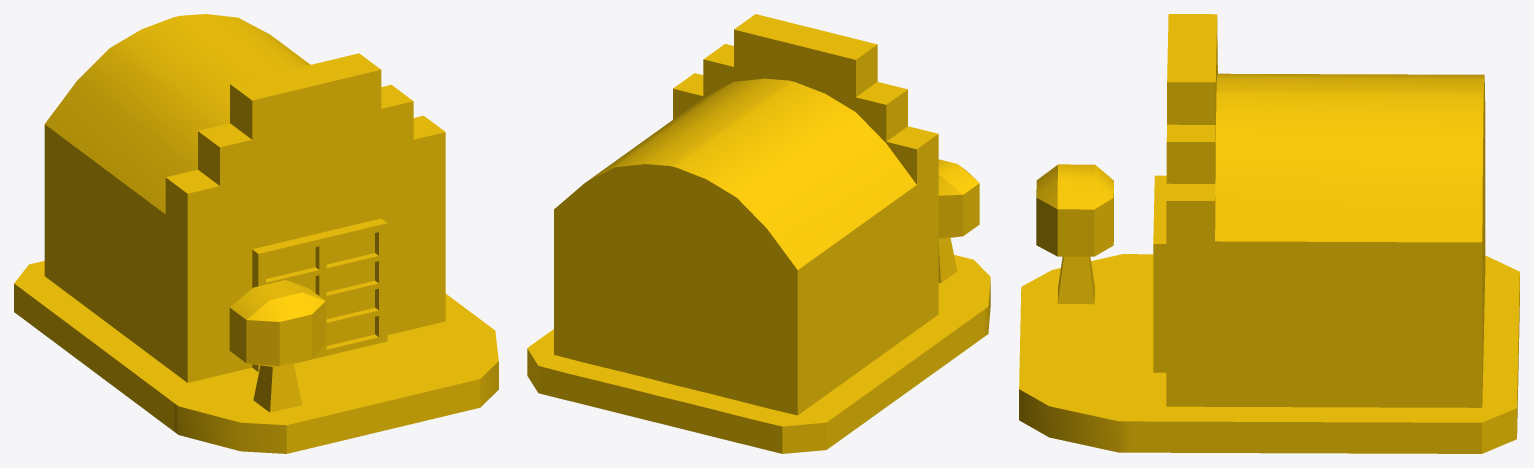
Rendered from rayvic-basic.gltf.
The picture shows the model from 3 angles, left to right: view 1: azimuth 30°, elevation 25°; view 2: azimuth 150°, elevation 25°; view 3: azimuth 270°, elevation 25°; orthographic projection. The views are drawn at different scales.
Parts seen in each view (by area): view 1: Cube; view 2: Cube; view 3: Cube.
Boxes of the visible parts, left/top/right/bottom form: Cube: left=14, top=14, right=498, bottom=453; Cube: left=527, top=14, right=990, bottom=453; Cube: left=1019, top=14, right=1519, bottom=453.
Size of the model in its own units: 0.5715 by 0.5083 by 0.7172.
Materials: 1 (1 with a texture image).
